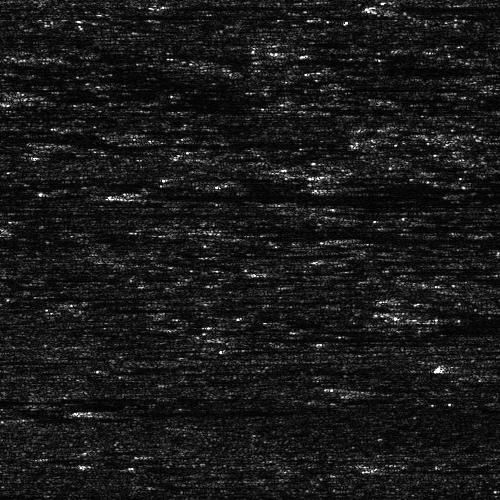object: (280, 0, 477, 14), (418, 358, 500, 375), (93, 187, 186, 200), (444, 184, 475, 199), (189, 222, 220, 235), (140, 3, 193, 8), (65, 409, 106, 414), (0, 210, 31, 213)
shadow: (140, 187, 500, 200), (204, 222, 427, 235), (379, 0, 500, 14), (86, 409, 288, 414), (166, 3, 318, 8), (459, 184, 500, 199), (471, 358, 500, 375), (0, 356, 85, 361), (16, 210, 86, 213)
